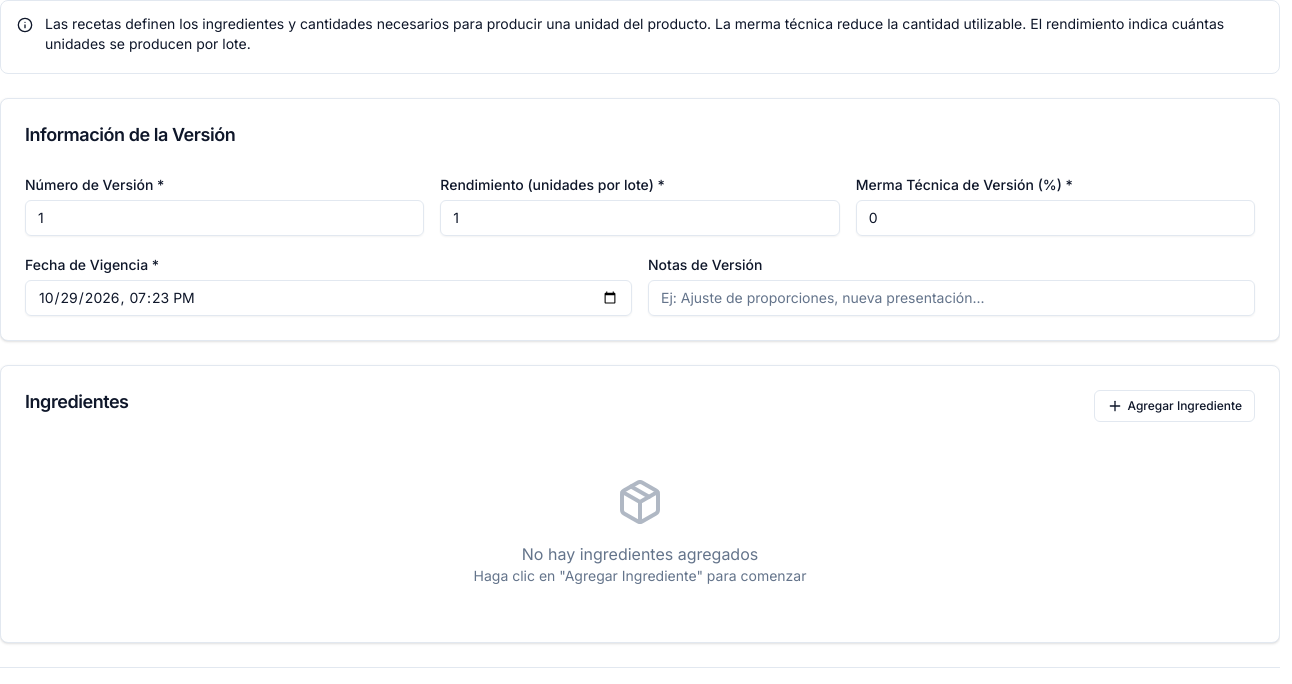
RecipeForm componentes: Tipo, ingrediente y UOM (R15 / S12) › la lista de ingredientes etiqueta con la unidad real del insumo
Step 1. Click the button "Agregar Ingrediente" → (1175, 406), box top-left (1094, 390), bottom-right (1255, 422)
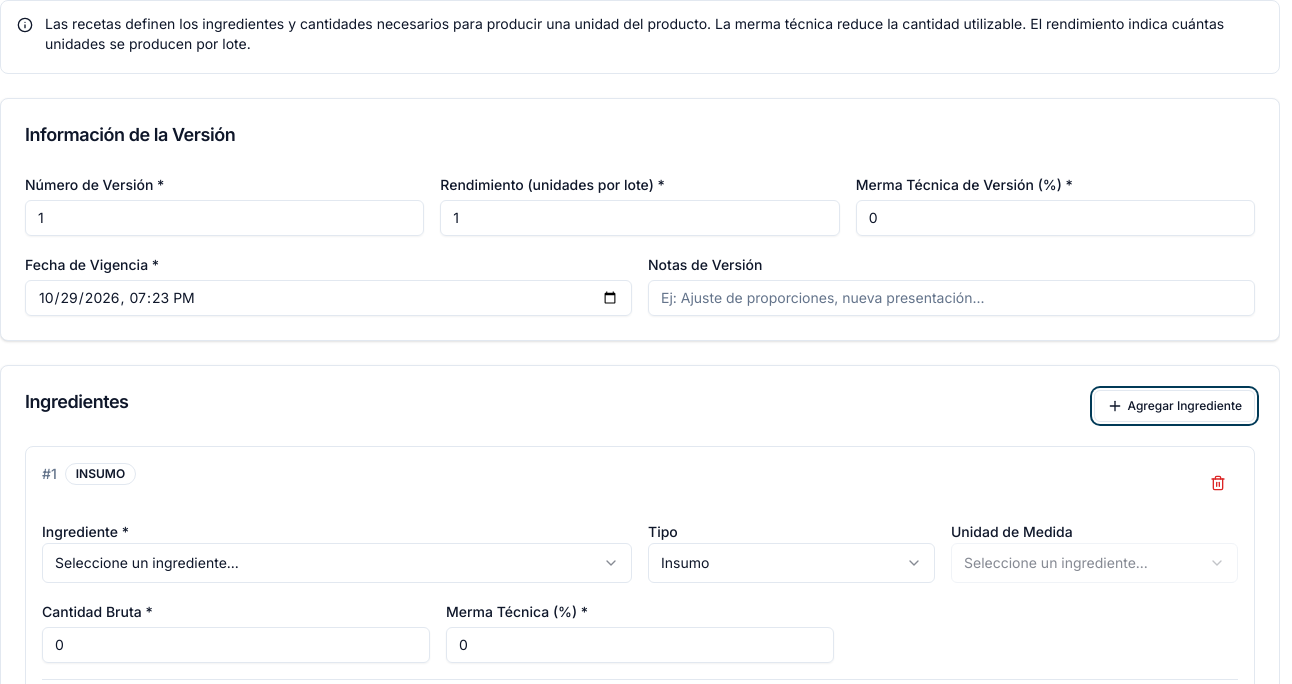
Step 2. Click the dropdown labelled "Seleccione un ingrediente..." below "Ingrediente *" → (147, 562), box top-left (42, 543), bottom-right (632, 583)
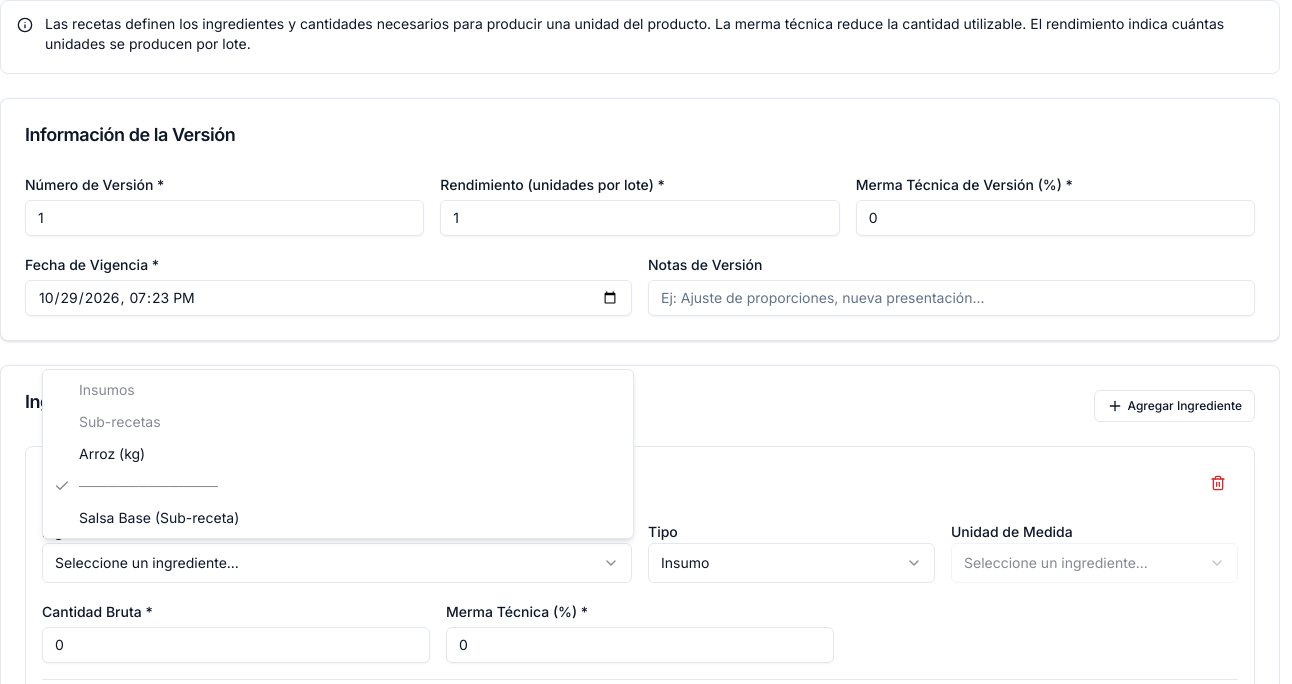
Check: the option "Arroz (kg)" is shown, box top-left (79, 445), bottom-right (145, 462)
